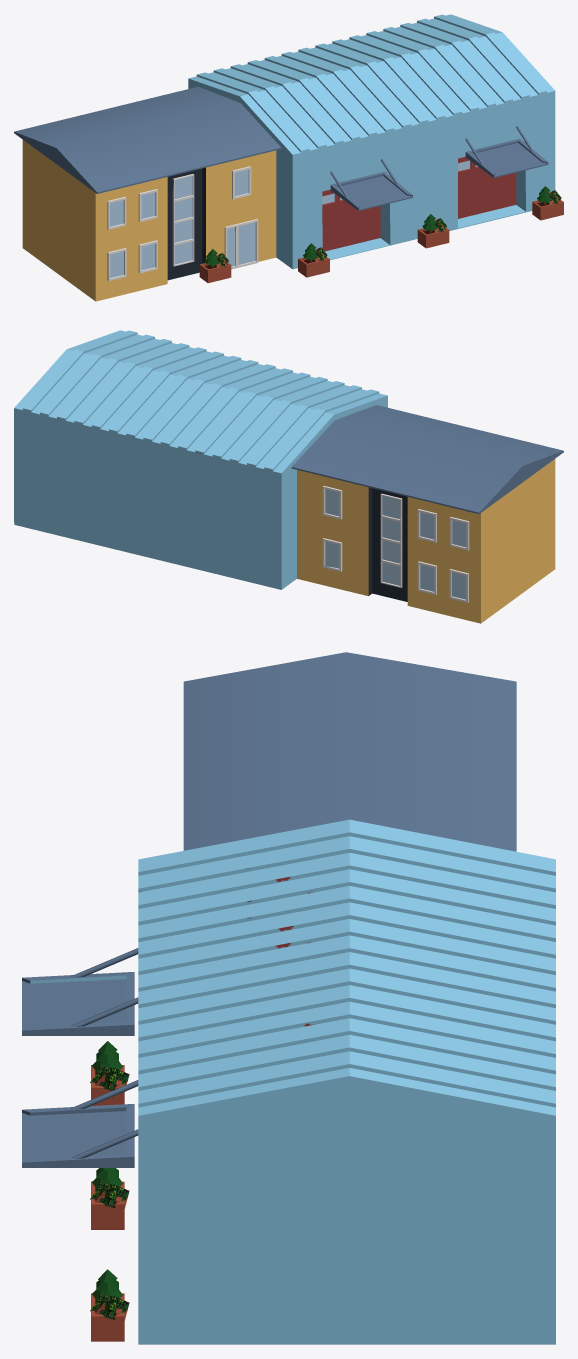
File: Wholesale1.FBX
3 renders of one model, top to bottom at view 1: azimuth 30°, elevation 25°; view 2: azimuth 150°, elevation 25°; view 3: azimuth 270°, elevation 25°, orthographic. The views are drawn at different scales.
Parts seen in each view (by area): view 1: Box198, Box001, Box189, Box200, Box202, Box201, Box199, Box194, Box197, Box190, Box191, Box192 (+6 smaller); view 2: Box198, Box001, Box189, Box207, Box213, Box208, Box212, Box211, Box209, Box210; view 3: Box198, Box189, Box201, Box199, Box221, Box217.
Part boxes in pixels (bbox=[...]): Box198: bbox=[188, 14, 555, 269]; Box001: bbox=[22, 140, 276, 301]; Box189: bbox=[14, 86, 281, 193]; Box200: bbox=[322, 189, 380, 251]; Box202: bbox=[458, 156, 516, 218]; Box201: bbox=[465, 125, 548, 177]; Box199: bbox=[330, 158, 412, 210]; Box194: bbox=[172, 174, 194, 266]; Box197: bbox=[224, 219, 258, 269]; Box190: bbox=[107, 196, 126, 229]; Box191: bbox=[138, 189, 157, 221]; Box192: bbox=[138, 240, 157, 273]; Box198: bbox=[14, 330, 387, 589]; Box001: bbox=[297, 459, 555, 623]; Box189: bbox=[291, 405, 563, 513]; Box207: bbox=[380, 493, 402, 587]; Box213: bbox=[322, 538, 342, 571]; Box208: bbox=[449, 517, 469, 550]; Box212: bbox=[322, 486, 342, 519]; Box211: bbox=[449, 569, 468, 602]; Box209: bbox=[417, 509, 436, 542]; Box210: bbox=[417, 561, 436, 594]; Box198: bbox=[138, 819, 555, 1344]; Box189: bbox=[183, 652, 516, 851]; Box201: bbox=[22, 1080, 138, 1167]; Box199: bbox=[22, 948, 138, 1035]; Box221: bbox=[91, 1293, 124, 1341]; Box217: bbox=[91, 1181, 124, 1229].
Bounding box in the file's own units: 24.71 × 12.79 × 7.2.
